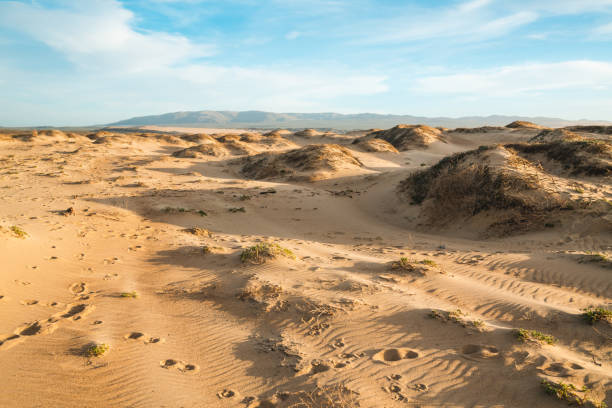human_footprint: (0, 303, 93, 349), (372, 348, 418, 363), (160, 359, 198, 372), (124, 332, 163, 343)
